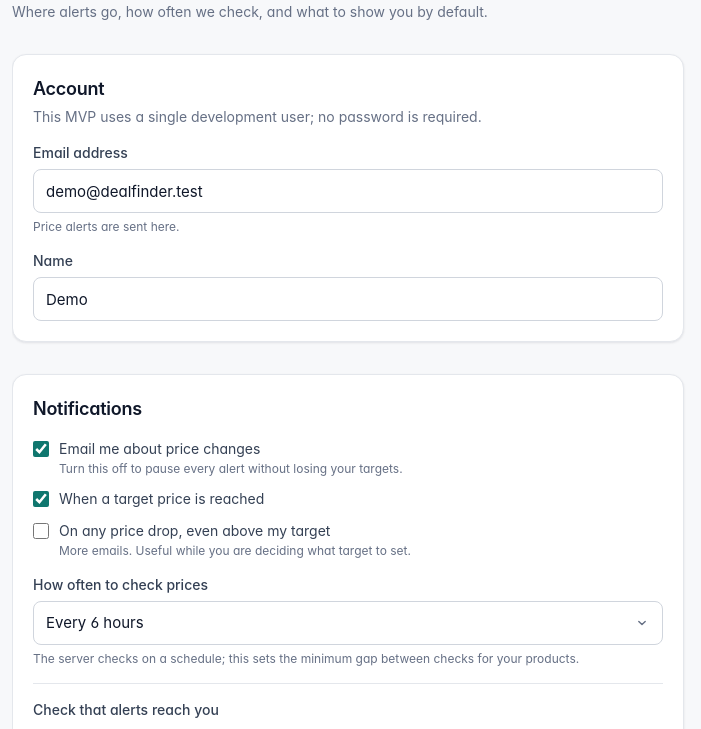
Test: validation and failure › clears the message once the field is corrected
The image size is (701, 729).
Clear the field labelled "Email address": (348, 191) [33,169,663,213]
(page scrolled)
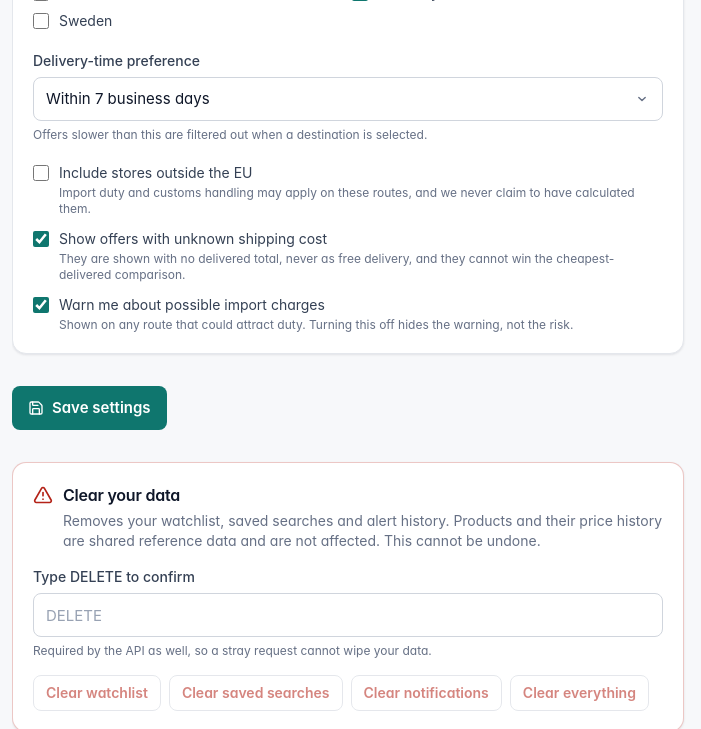
Click the button "Save settings": (89, 408) [12,386,167,430]
(page scrolled)
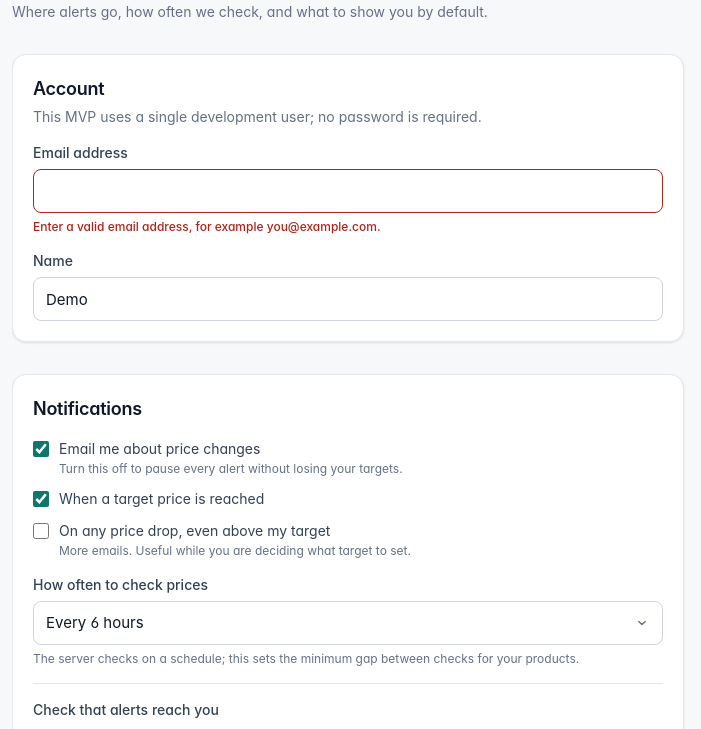
Result: the message "Enter a valid email address, for example you@example.com." is shown at [33,219,380,234]
In the field labelled "Email address": (348, 191) [33,169,663,213], type "someone@example.test"
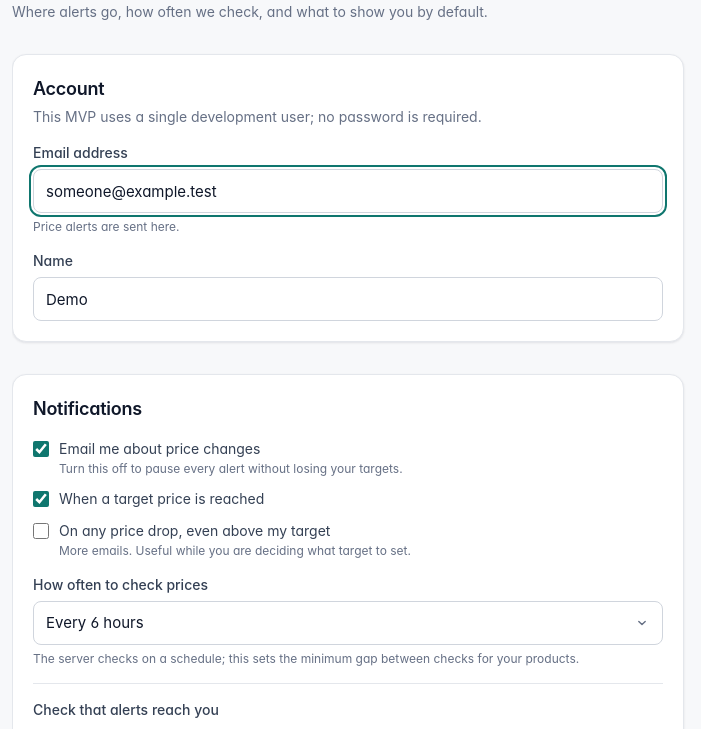
Result: the message "Enter a valid email address, for example you@example.com." is gone
